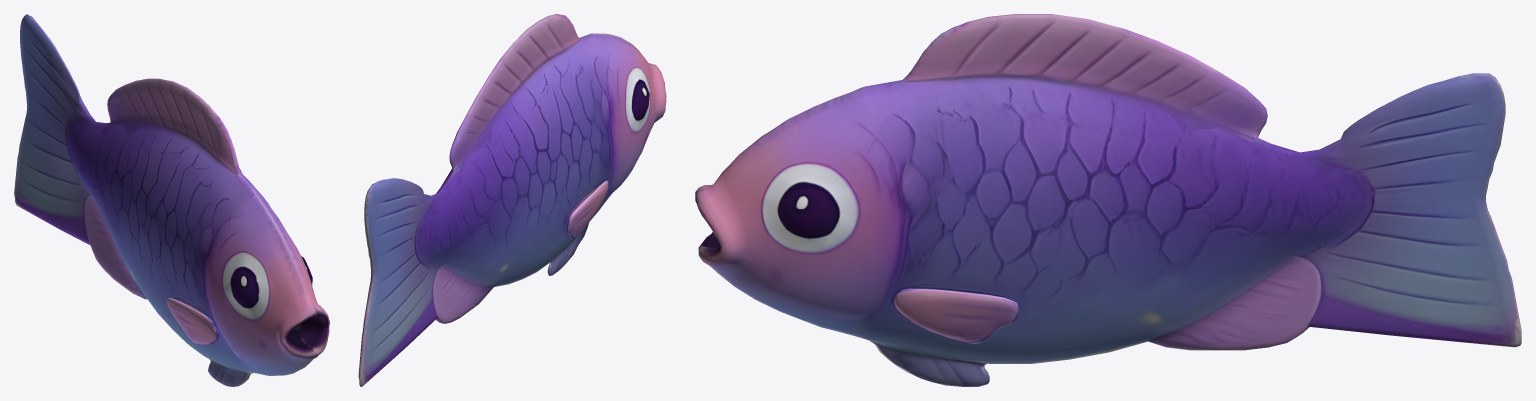
The model's file is Bocachico_Model.fbx.
3 views of the same model, side by side, from view 1: azimuth 30°, elevation 25°; view 2: azimuth 150°, elevation 25°; view 3: azimuth 270°, elevation 25° (orthographic). The views are drawn at different scales.
Visible parts, largest first — view 1: mesh_rep_0_ori_repair_quad, mesh_rep_0_ori_repair_quad.002, mesh_rep_0_ori_repair_quad.001; view 2: mesh_rep_0_ori_repair_quad, mesh_rep_0_ori_repair_quad.002, mesh_rep_0_ori_repair_quad.001; view 3: mesh_rep_0_ori_repair_quad, mesh_rep_0_ori_repair_quad.002, mesh_rep_0_ori_repair_quad.001.
Boxes of the visible parts, x1,y1,x2,y2 form: mesh_rep_0_ori_repair_quad: [14, 14, 329, 386]; mesh_rep_0_ori_repair_quad.002: [17, 63, 329, 375]; mesh_rep_0_ori_repair_quad.001: [166, 298, 218, 344]; mesh_rep_0_ori_repair_quad: [358, 14, 666, 386]; mesh_rep_0_ori_repair_quad.002: [361, 34, 666, 344]; mesh_rep_0_ori_repair_quad.001: [566, 180, 608, 239]; mesh_rep_0_ori_repair_quad: [698, 14, 1521, 386]; mesh_rep_0_ori_repair_quad.002: [695, 75, 1513, 340]; mesh_rep_0_ori_repair_quad.001: [894, 288, 1018, 343].
Size of the model in its own units: 5.96 by 21.64 by 43.53.
